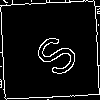S: (25, 25, 82, 81)
